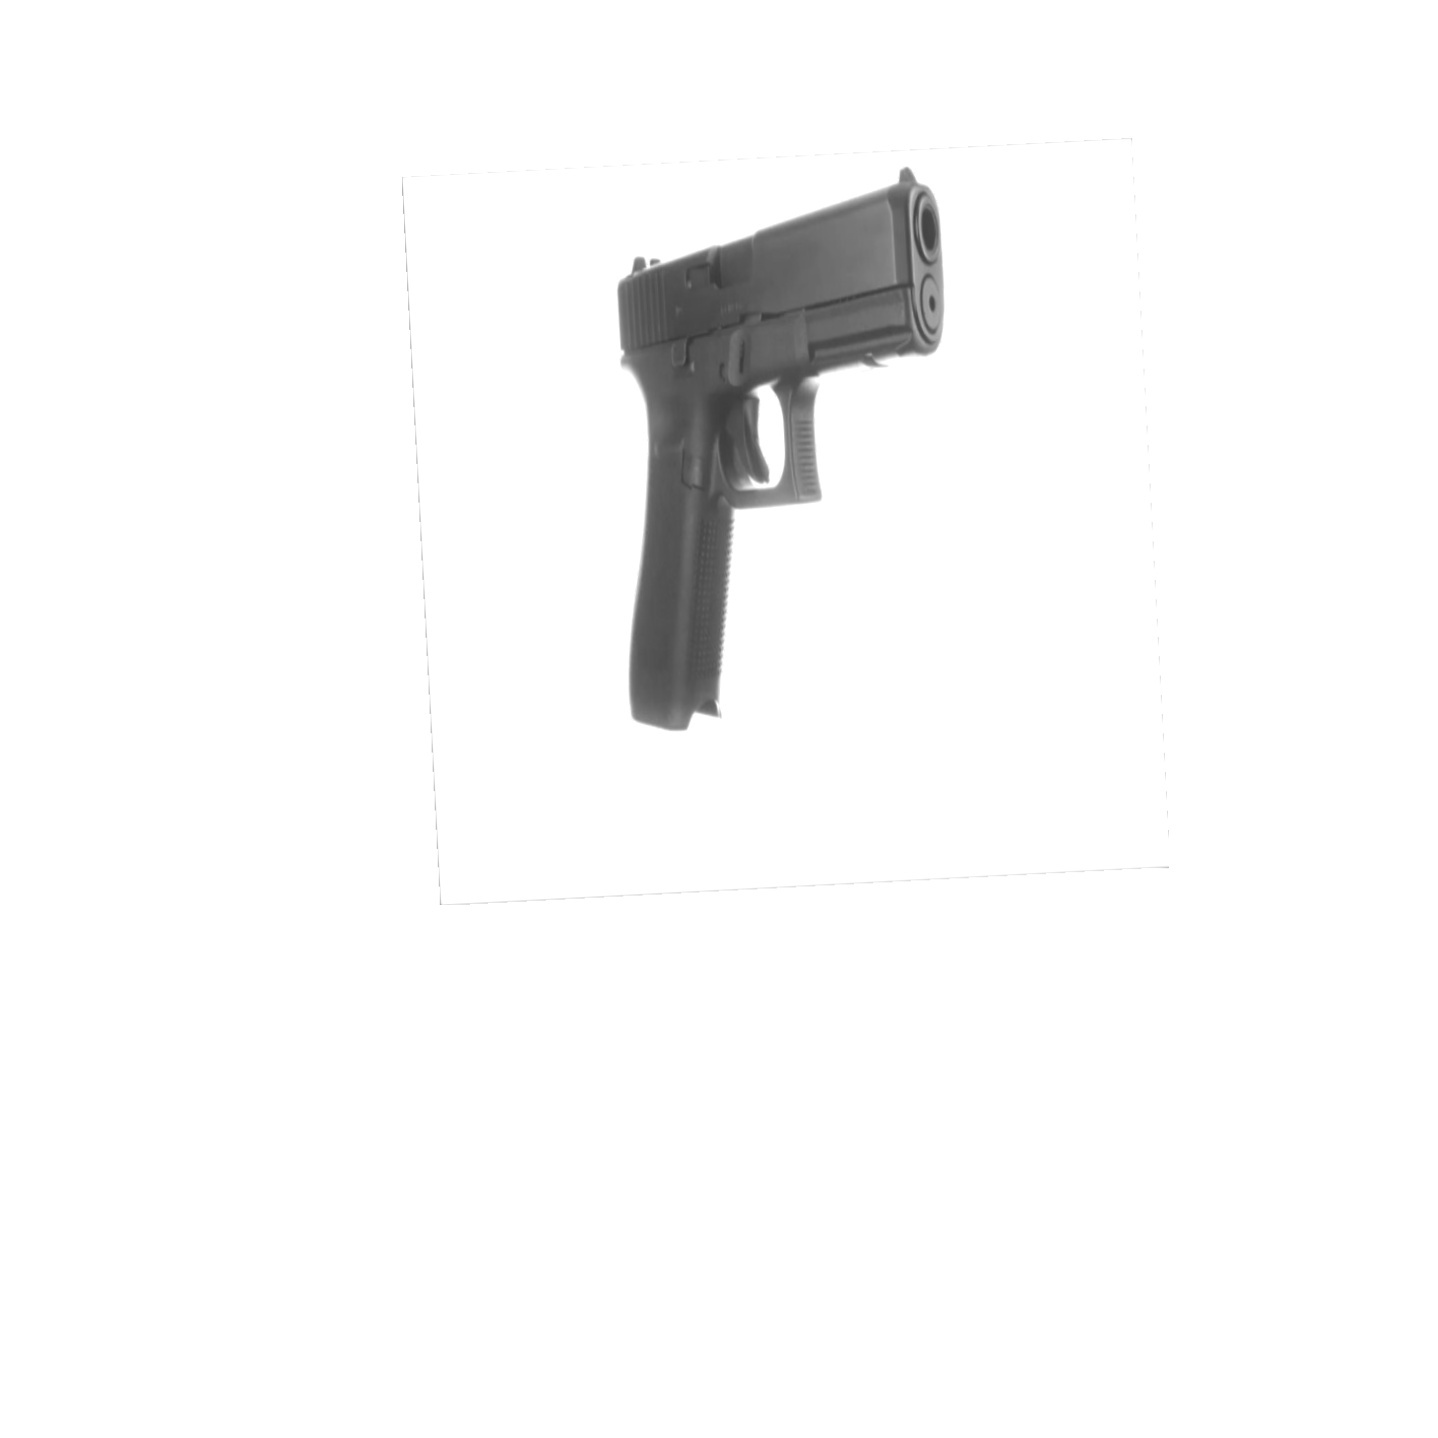gun: (615, 166, 948, 732)
